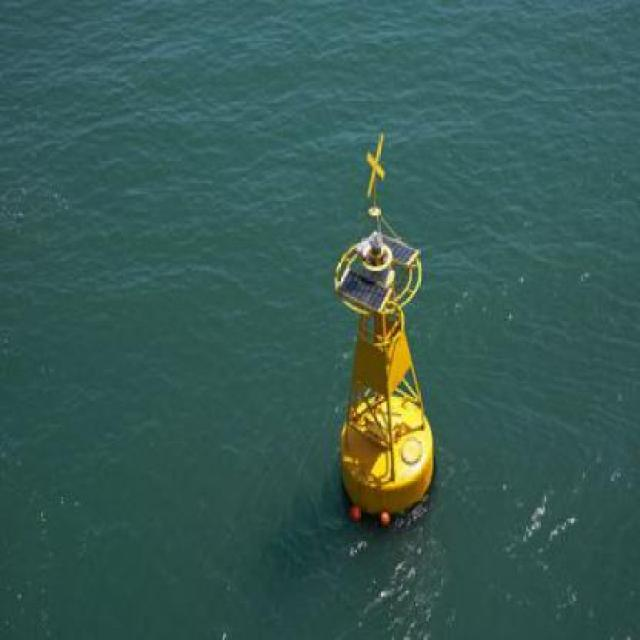a: (322, 124, 446, 530)
